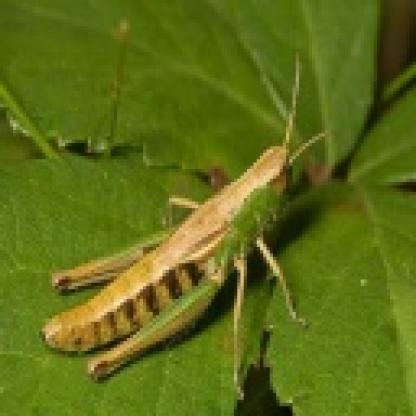grasshopper: (40, 66, 328, 368)
